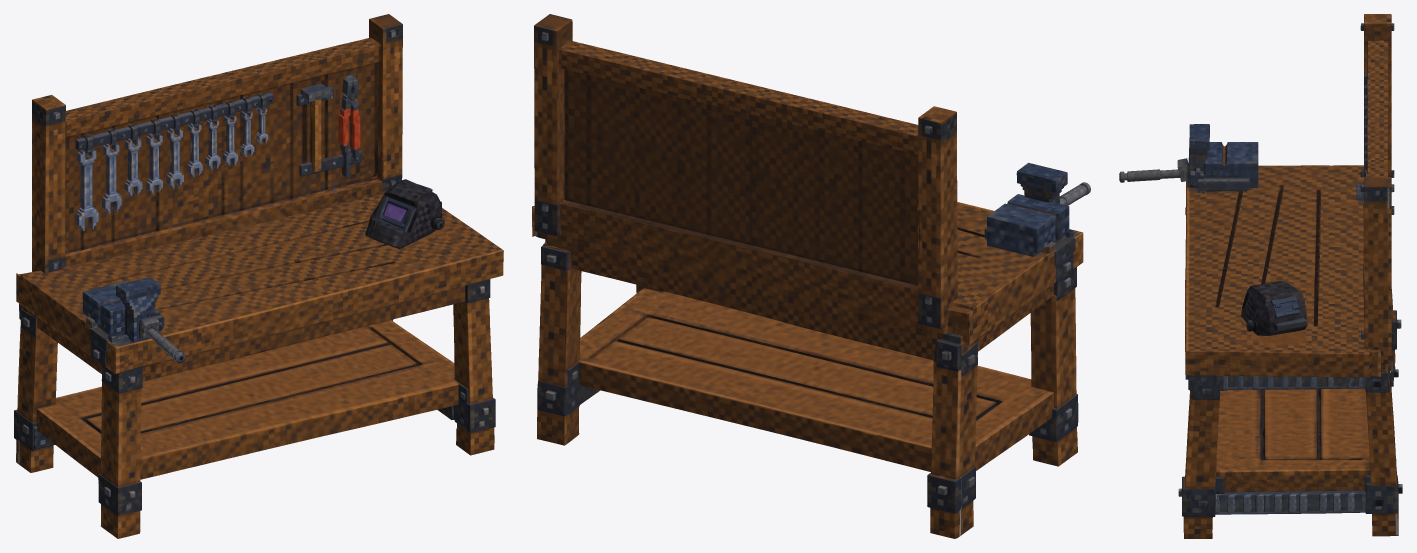
Rendered from Meshy_AI_model.glb.
3 renders of one model, left to right at view 1: azimuth 30°, elevation 25°; view 2: azimuth 150°, elevation 25°; view 3: azimuth 270°, elevation 25°, orthographic. The views are drawn at different scales.
Bounding box in the file's own units: 1.9 × 1.67 × 1.21.
Materials: 1 (1 with a texture image).
